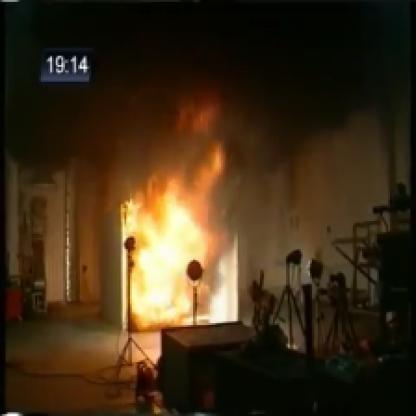fire: (112, 105, 253, 337)
